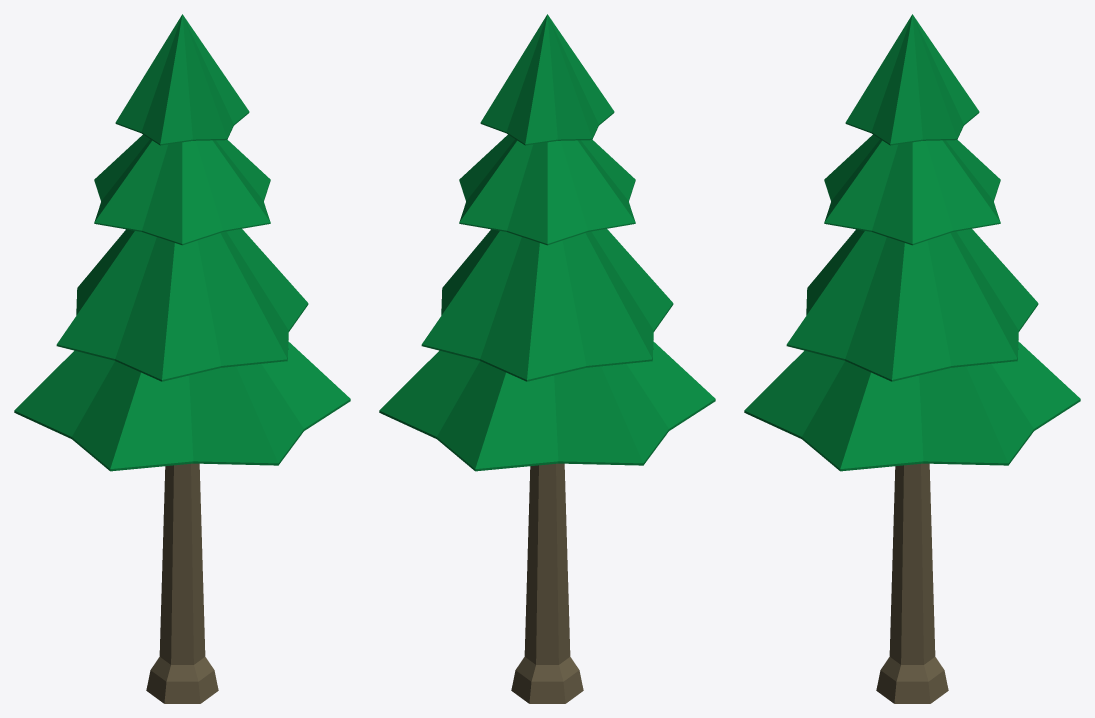
Rendered from SM_Factory_Tree_04.glb.
3 renders of one model, left to right at view 1: azimuth 30°, elevation 25°; view 2: azimuth 150°, elevation 25°; view 3: azimuth 270°, elevation 25°, orthographic.
Visible parts, largest first — view 1: SM_Factory_Tree_04; view 2: SM_Factory_Tree_04; view 3: SM_Factory_Tree_04.
Boxes of the visible parts, x1,y1,x2,y2 form: SM_Factory_Tree_04: (14, 14, 350, 703); SM_Factory_Tree_04: (379, 14, 715, 703); SM_Factory_Tree_04: (744, 14, 1080, 703).
Bounding box in the file's own units: 2.11 × 5.16 × 2.33.
1 material, 1 textured.
